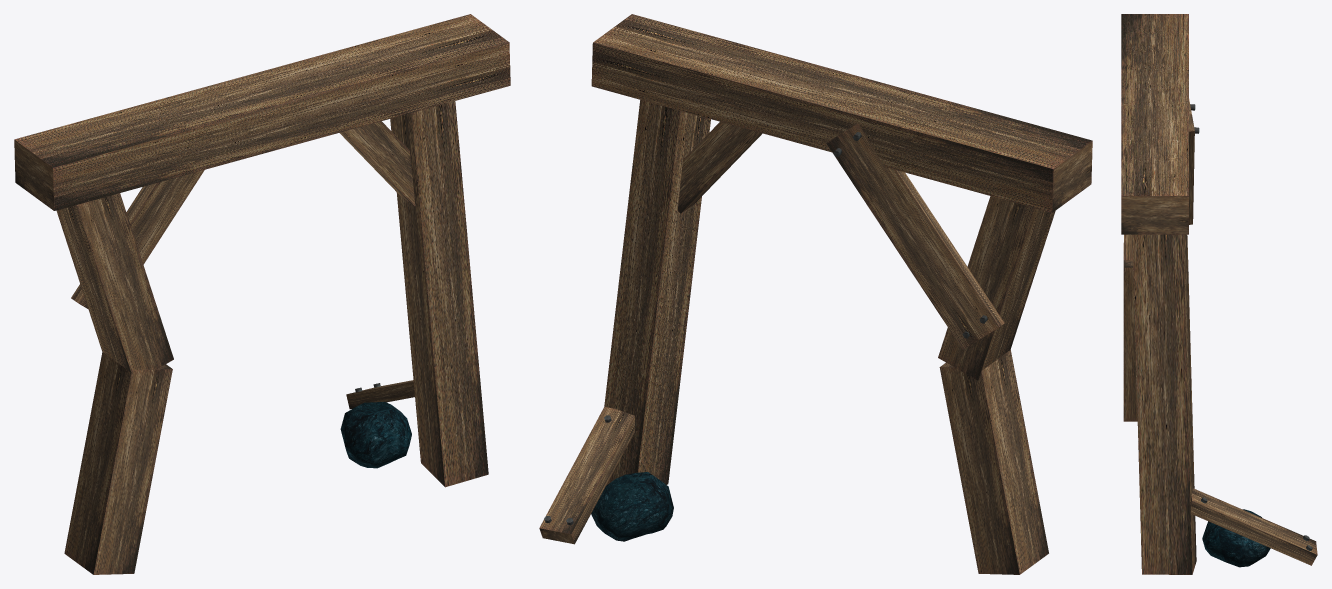
File: shaft4.fbx
3 views of the same model, side by side, from view 1: azimuth 30°, elevation 25°; view 2: azimuth 150°, elevation 25°; view 3: azimuth 270°, elevation 25° (orthographic). The views are drawn at different scales.
Visible parts, largest first — view 1: shaft, stone; view 2: shaft, stone; view 3: shaft, stone.
Boxes of the visible parts, x1,y1,x2,y2 form: shaft: (14, 14, 510, 574); stone: (340, 401, 411, 468); shaft: (539, 14, 1092, 574); stone: (591, 472, 673, 541); shaft: (1121, 14, 1317, 574); stone: (1202, 509, 1270, 567).
Size of the model in its own units: 946 by 895 by 403.
Materials: 3 (3 with a texture image).
